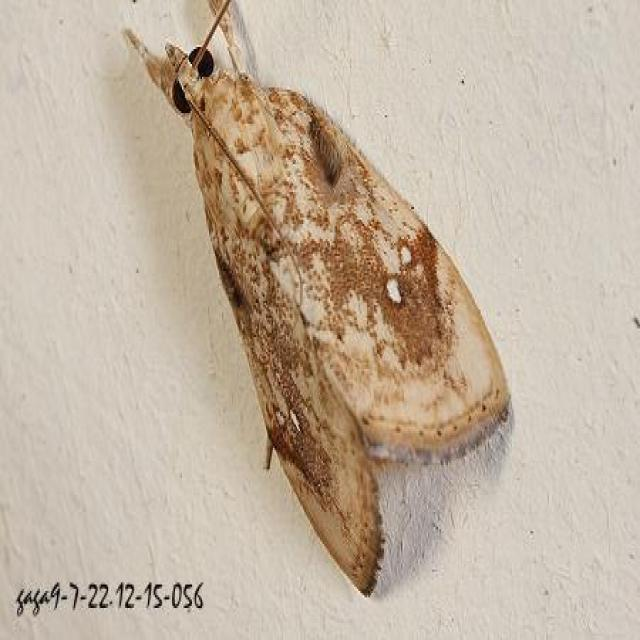armyworm: (112, 6, 532, 618)
